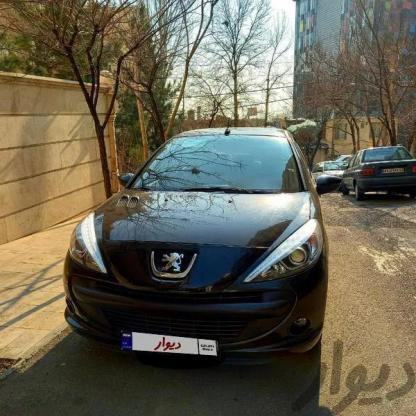Car: (65, 117, 327, 368), (338, 140, 416, 208), (301, 156, 344, 199)
